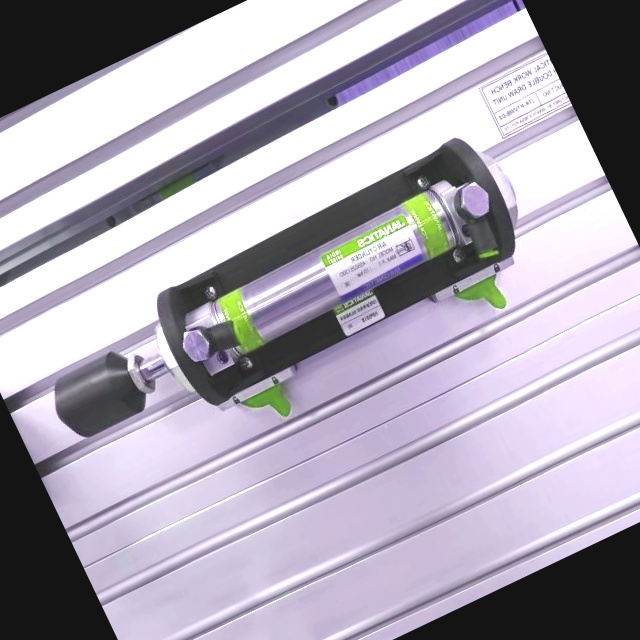double acting pneumatic cylinder: (13, 113, 568, 517)
